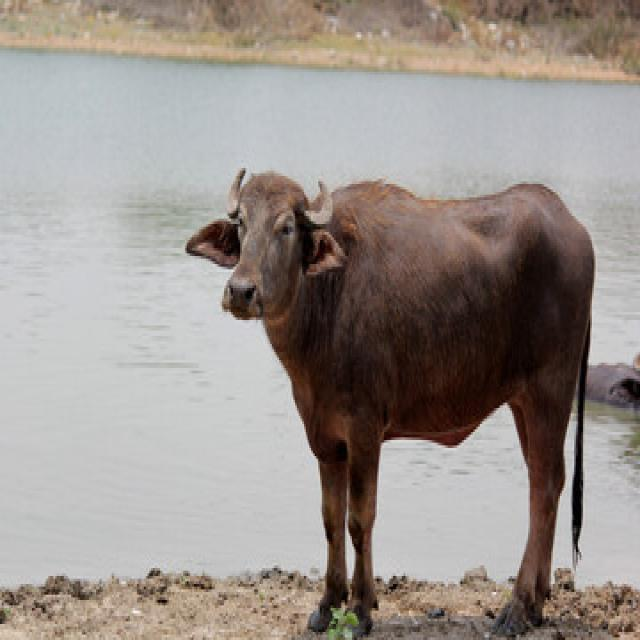Buffalo: (183, 160, 597, 637)
